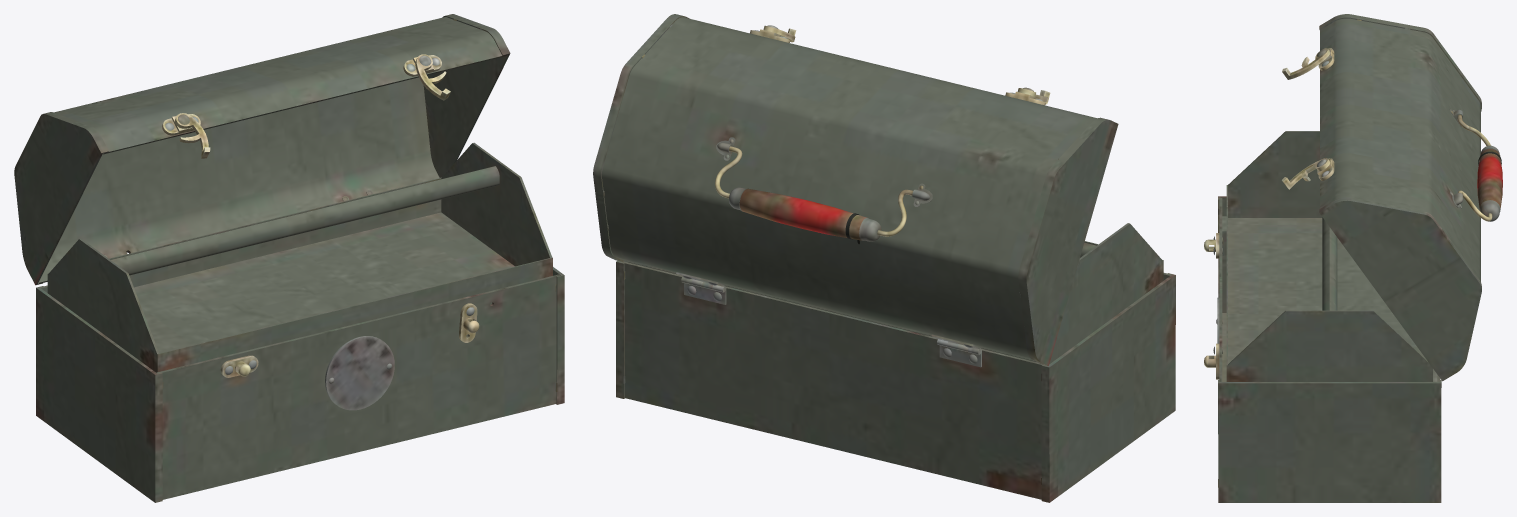
The model's file is ph_metal_toolbox.glb.
3 renders of one model, left to right at view 1: azimuth 30°, elevation 25°; view 2: azimuth 150°, elevation 25°; view 3: azimuth 270°, elevation 25°, orthographic. The views are drawn at different scales.
Visible parts, largest first — view 1: metal_toolbox; view 2: metal_toolbox; view 3: metal_toolbox.
Part boxes in pixels (x1,y1,x2,y2): metal_toolbox: (14,14,564,502); metal_toolbox: (593,14,1175,502); metal_toolbox: (1204,14,1502,502).
Size of the model in its own units: 0.4 by 0.3047 by 0.2705.
1 material, 1 textured.
